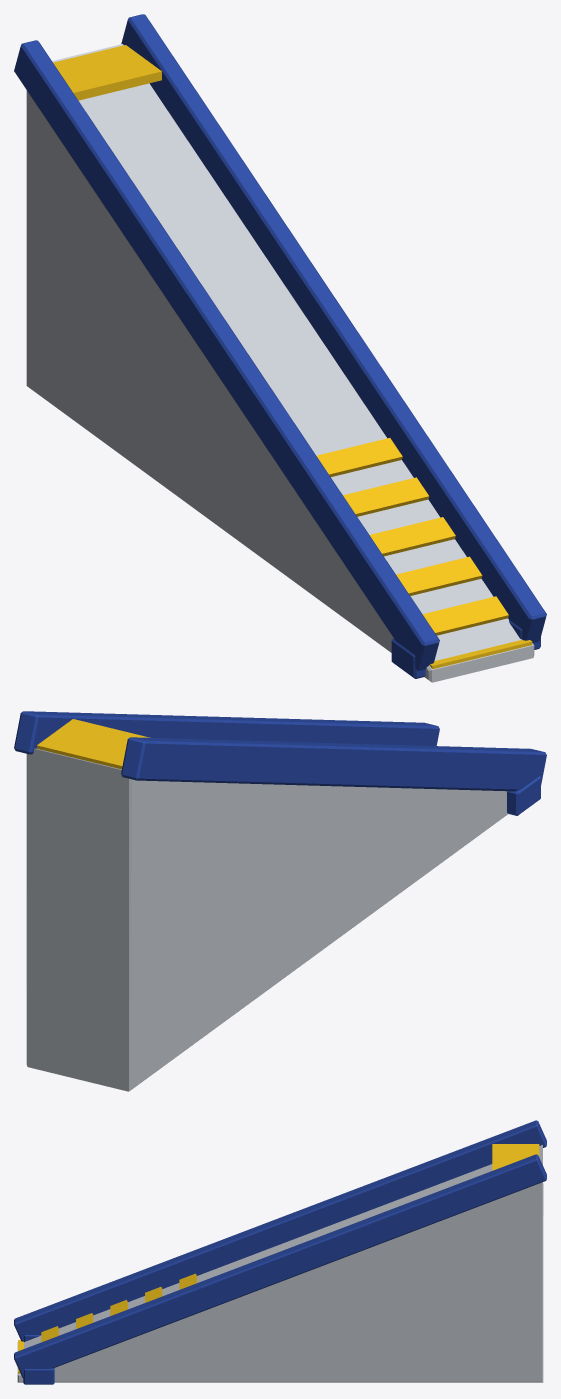
The model's file is ramp_to_train.glb.
The picture shows the model from 3 angles, top to bottom: view 1: azimuth 30°, elevation 25°; view 2: azimuth 150°, elevation 25°; view 3: azimuth 270°, elevation 25°; orthographic projection. The views are drawn at different scales.
Parts seen in each view (by area): view 1: ramp_body, rail_l, rail_r, top_plate, hazard_2, hazard_3, hazard_4, hazard_0, hazard_1, deck_edge; view 2: ramp_body, rail_l, rail_r, top_plate, kick_l; view 3: ramp_body, rail_r, rail_l, top_plate, kick_r.
Part boxes in pixels (<box>): ramp_body: <box>26,44,534,682</box>; rail_l: <box>14,40,439,670</box>; rail_r: <box>121,14,546,642</box>; top_plate: <box>53,45,161,100</box>; hazard_2: <box>369,517,455,556</box>; hazard_3: <box>343,477,429,516</box>; hazard_4: <box>316,438,402,476</box>; hazard_0: <box>422,596,508,635</box>; hazard_1: <box>396,556,482,595</box>; deck_edge: <box>429,639,532,669</box>; ramp_body: <box>26,748,507,1091</box>; rail_l: <box>121,737,546,791</box>; rail_r: <box>14,711,439,754</box>; top_plate: <box>37,719,150,769</box>; kick_l: <box>507,776,540,815</box>; ramp_body: <box>17,1145,543,1382</box>; rail_r: <box>14,1154,546,1378</box>; rail_l: <box>14,1120,546,1341</box>; top_plate: <box>492,1144,539,1170</box>; kick_r: <box>23,1368,54,1384</box>.
Bounding box in the file's own units: 1.8 × 4.7 × 10.
